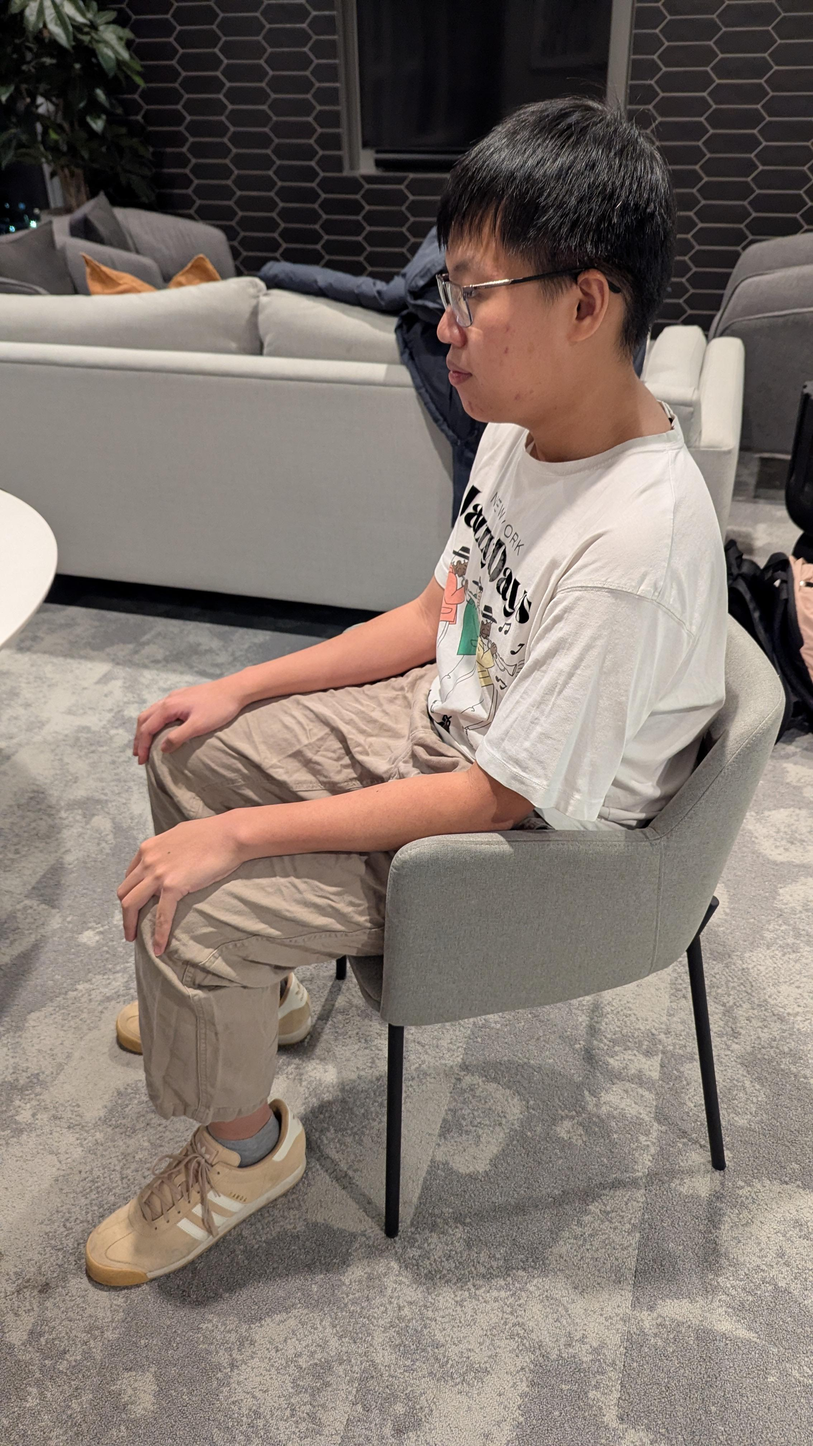GoodPosture: (82, 98, 728, 1288)
